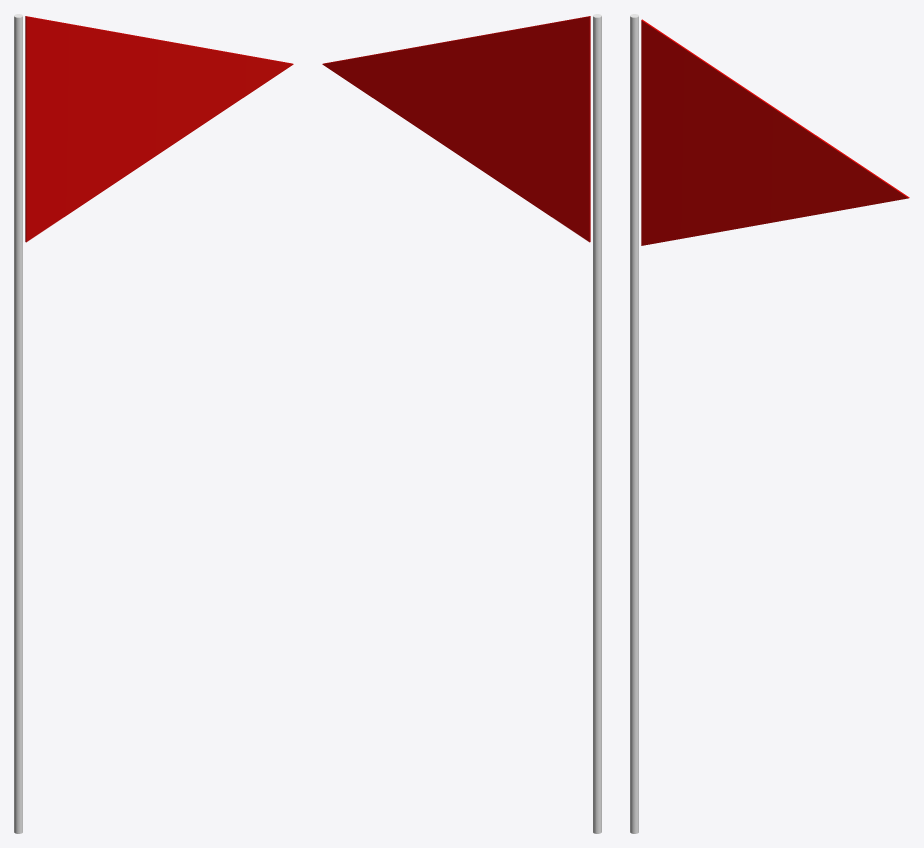
Rendered from flag.fbx.
3 renders of one model, left to right at view 1: azimuth 30°, elevation 25°; view 2: azimuth 150°, elevation 25°; view 3: azimuth 330°, elevation 25°, orthographic.
Parts seen in each view (by area): view 1: Cylinder; view 2: Cylinder; view 3: Cylinder.
Part boxes in pixels (x1,y1,x2,y2): Cylinder: (14,14,293,833); Cylinder: (322,14,601,833); Cylinder: (630,14,909,833).
Bounding box in the file's own units: 1005 × 2813 × 27.84.
